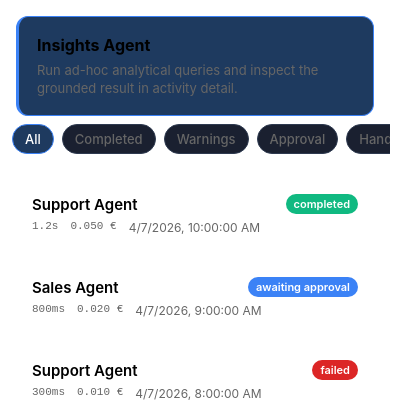
Activity log list screen › filters runs by status when a filter chip is pressed
Click the element with test id "filter-completed": (109,139) [62,124,156,154]
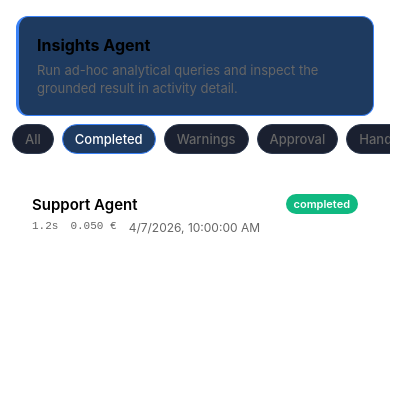
Expected: the element with test id "activity-run-item-run-1" is shown, [16,178,374,251]
Result: the element with test id "activity-run-item-run-2" is gone
